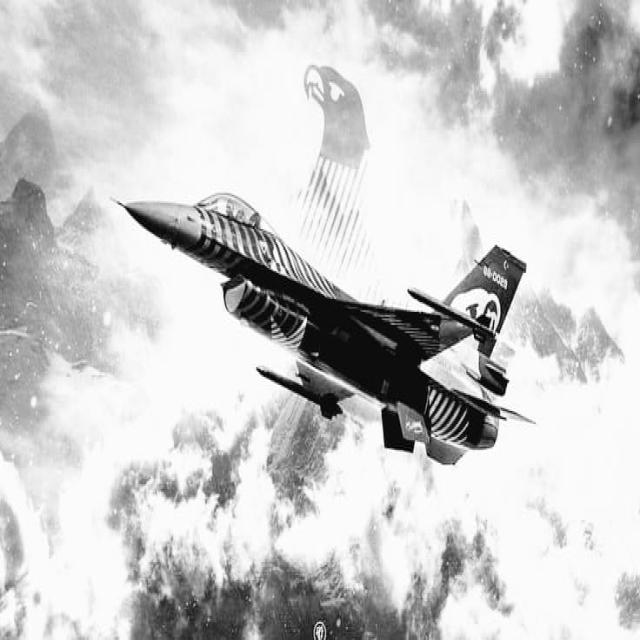iha: (53, 193, 530, 463)
